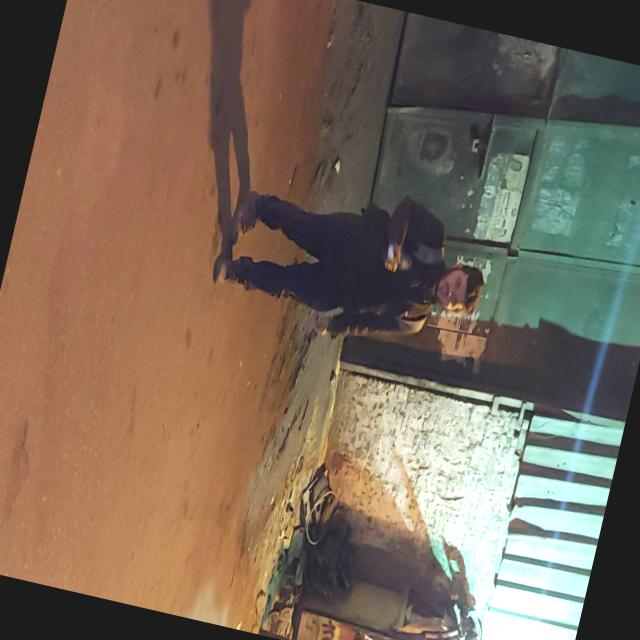long weapon: (372, 205, 438, 300)
